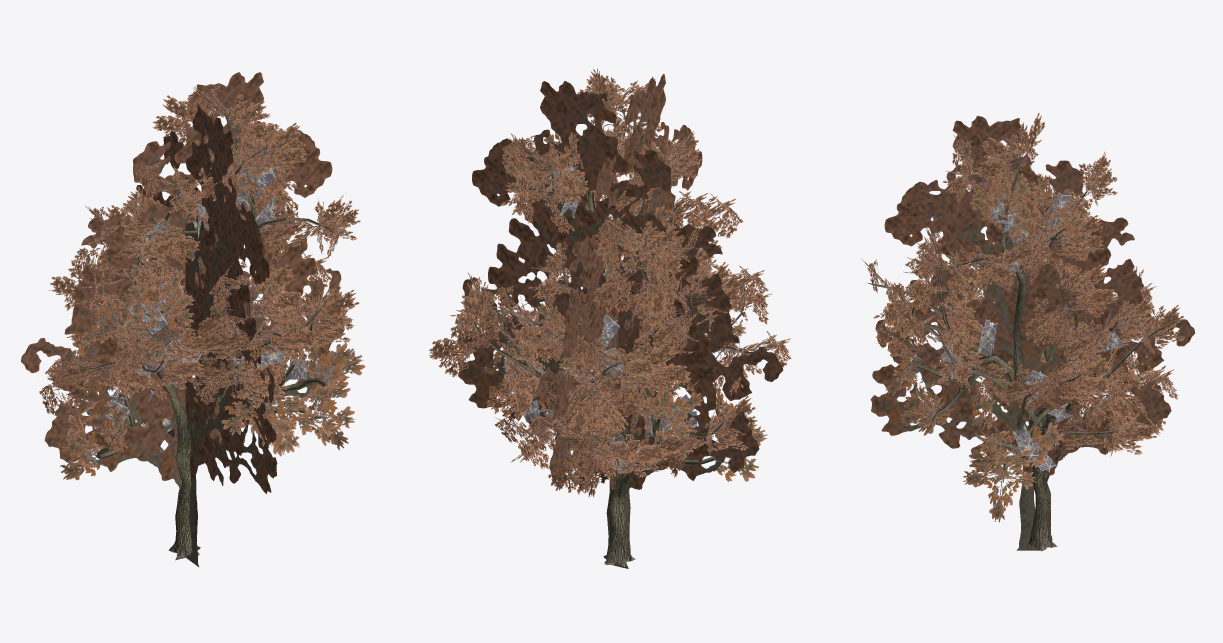
File: Tree-Oak3C.fbx
The picture shows the model from 3 angles, left to right: view 1: azimuth 30°, elevation 25°; view 2: azimuth 150°, elevation 25°; view 3: azimuth 270°, elevation 25°; orthographic projection. The views are drawn at different scales.
Visible parts, largest first — view 1: Tree-Oak3C_LOD0, Billboard-Oak3C; view 2: Tree-Oak3C_LOD0, Billboard-Oak3C; view 3: Tree-Oak3C_LOD0, Billboard-Oak3C.
Boxes of the visible parts, box(x1,y1,x2,y2) form: Tree-Oak3C_LOD0: box(39, 85, 365, 557); Billboard-Oak3C: box(20, 72, 344, 566); Tree-Oak3C_LOD0: box(429, 68, 791, 566); Billboard-Oak3C: box(458, 74, 783, 568); Tree-Oak3C_LOD0: box(861, 113, 1185, 550); Billboard-Oak3C: box(870, 115, 1194, 550).
Size of what is drawn, in the model's own units: 2603 by 3562 by 2584.
